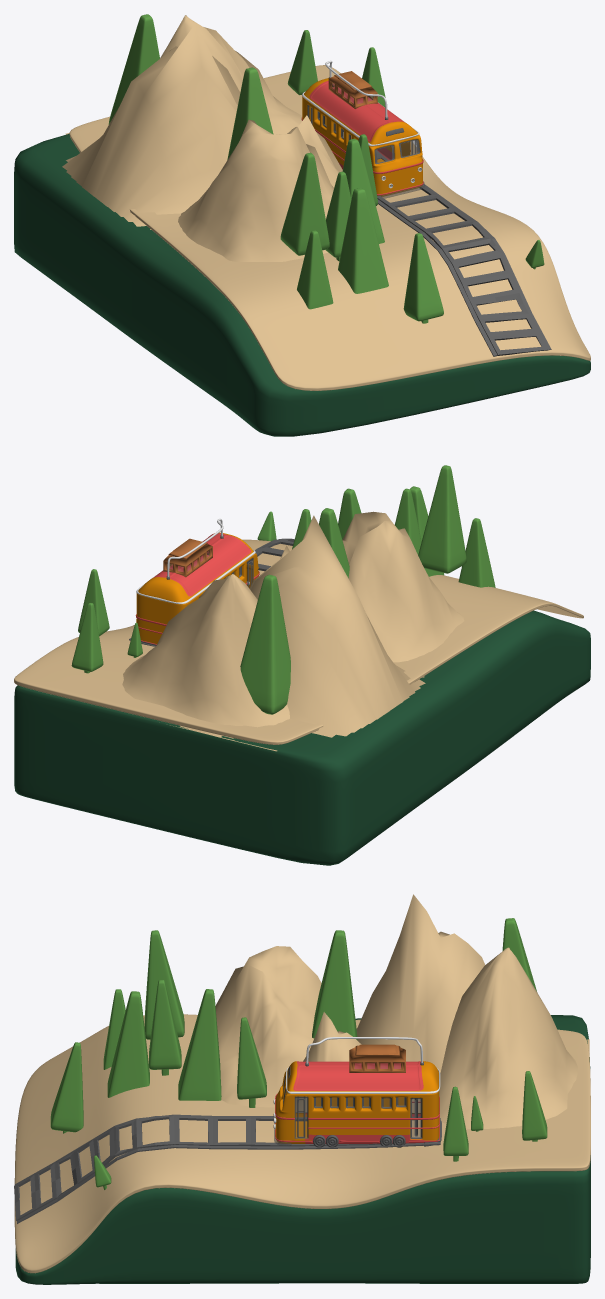
Rendered from funicular-3d-animated-icon-249090635257.glb.
3 renders of one model, top to bottom at view 1: azimuth 30°, elevation 25°; view 2: azimuth 150°, elevation 25°; view 3: azimuth 270°, elevation 25°, orthographic. The views are drawn at different scales.
Visible parts, largest first — view 1: land, mount, body, rail, tree.014, tree.021, tree.012, tree.020, tree.010, tree.008, tree.002, tree.004 (+3 smaller); view 2: land, mount, body, tree.020, tree.021, tree.010, tree.016, body up, tree, tree.002, tree.008, tree.004 (+2 smaller); view 3: land, mount, body, rail, tree.004, tree.014, tree.008, tree.012, tree.002, tree.021, tree.006, body up (+6 smaller).
Boxes of the visible parts, box(x1,y1,x2,y2) form: land: box(14, 65, 590, 436); mount: box(62, 15, 342, 261); body: box(301, 78, 424, 198); rail: box(336, 130, 551, 356); tree.014: box(338, 188, 388, 293); tree.021: box(280, 152, 329, 255); tree.012: box(403, 233, 443, 321); tree.020: box(108, 14, 159, 124); tree.010: box(297, 230, 333, 309); tree.008: box(227, 67, 273, 159); tree.002: box(325, 171, 351, 257); tree.004: box(342, 138, 384, 243); land: box(14, 539, 590, 865); mount: box(122, 511, 464, 751); body: box(135, 532, 259, 646); tree.020: box(240, 574, 290, 714); tree.021: box(418, 465, 466, 573); tree.010: box(458, 518, 495, 587); tree.016: box(71, 603, 103, 671); body up: box(163, 538, 212, 577); tree: box(78, 569, 109, 635); tree.002: box(395, 488, 421, 555); tree.008: box(319, 508, 349, 578); tree.004: box(338, 488, 361, 539); land: box(14, 1014, 590, 1284); mount: box(215, 894, 589, 1128); body: box(274, 1061, 441, 1146); rail: box(14, 1114, 440, 1223); tree.004: box(178, 989, 221, 1100); tree.014: box(107, 991, 149, 1097); tree.008: box(312, 930, 357, 1040); tree.012: box(50, 1042, 83, 1132); tree.002: box(149, 980, 181, 1069); tree.021: box(144, 930, 184, 1039); tree.006: box(237, 1017, 266, 1099); body up: box(349, 1044, 405, 1072).
Size of the model in its own units: 1.58 by 1.24 by 2.31.
